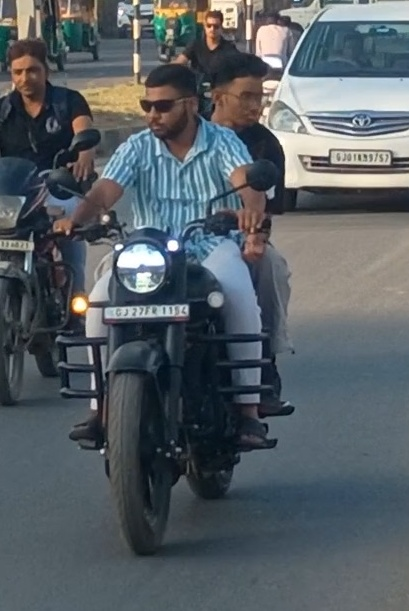BikeWithRider: (44, 53, 326, 559), (1, 12, 105, 412)
NoHelmet: (200, 52, 277, 135), (134, 58, 205, 144), (0, 36, 52, 101)
